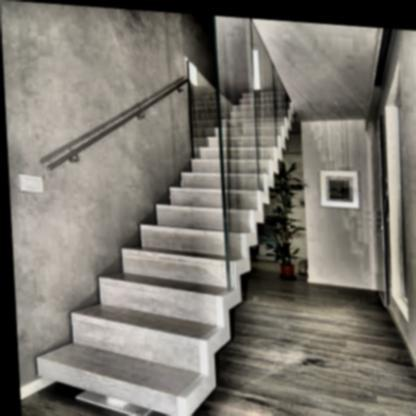stair: (47, 80, 295, 416)
